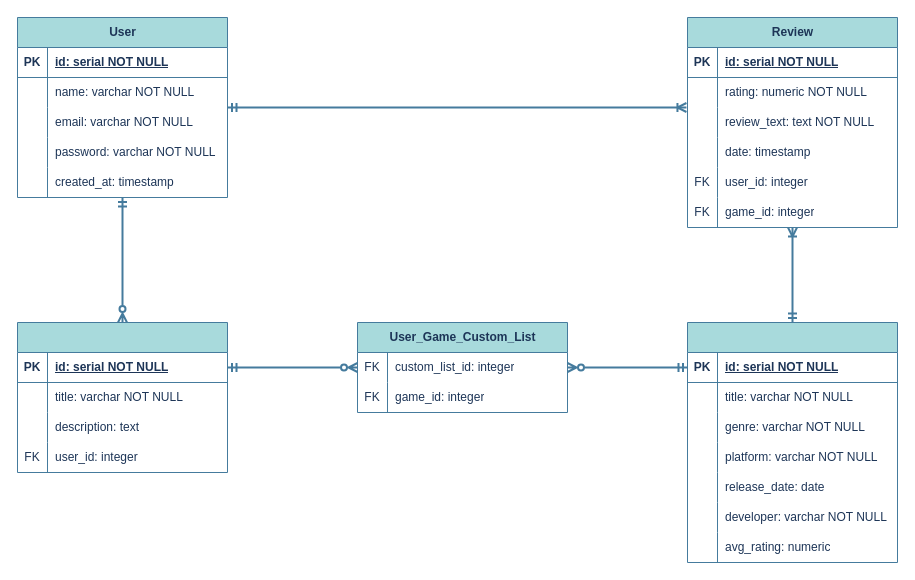
This 915x580 diagram has some shape labels left out. Here are the shapes that lost their labels. From the top down, the box of each, then its label:
(16, 322, 228, 472): Custom_List
(686, 322, 898, 562): Game
